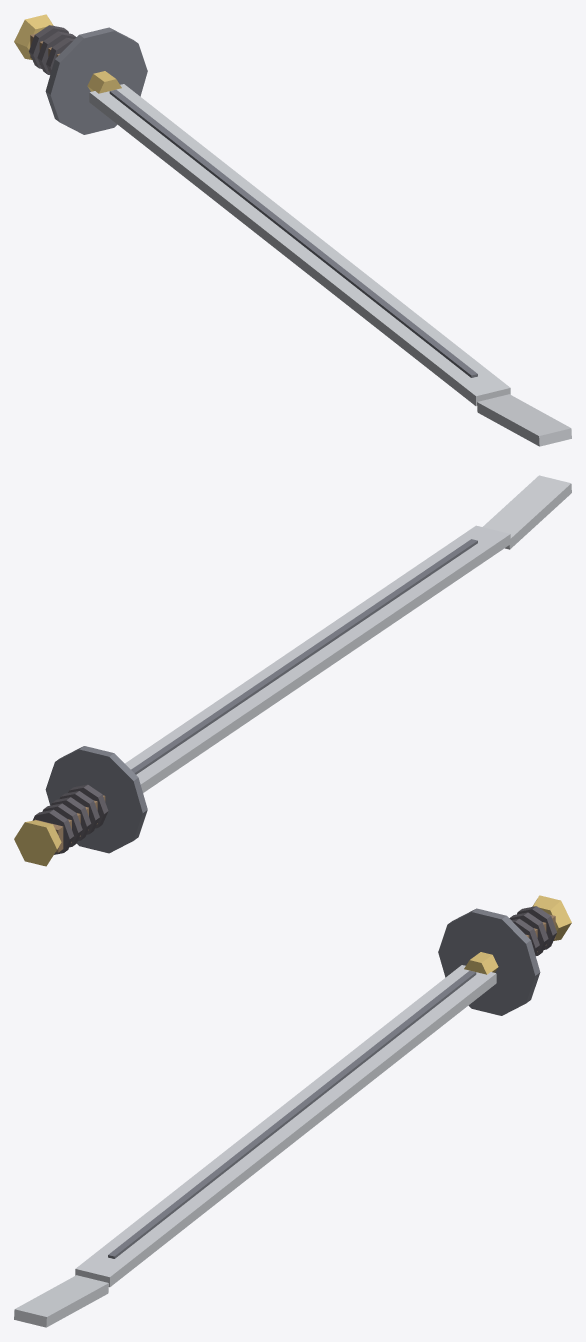
Rendered from legendary-warriors-kit-warrior-katana-43aa1d03__39206.glb.
3 views of the same model, one above another, from view 1: azimuth 30°, elevation 25°; view 2: azimuth 150°, elevation 25°; view 3: azimuth 330°, elevation 25° (orthographic).
Visible parts, largest first — view 1: warrior-katana; view 2: warrior-katana; view 3: warrior-katana.
Boxes of the visible parts, x1=… form: warrior-katana: x1=14, y1=14, x2=571, y2=446; warrior-katana: x1=14, y1=475, x2=571, y2=866; warrior-katana: x1=14, y1=895, x2=571, y2=1327.
Size of the model in its own units: 0.09 by 0.0856 by 0.8339.
